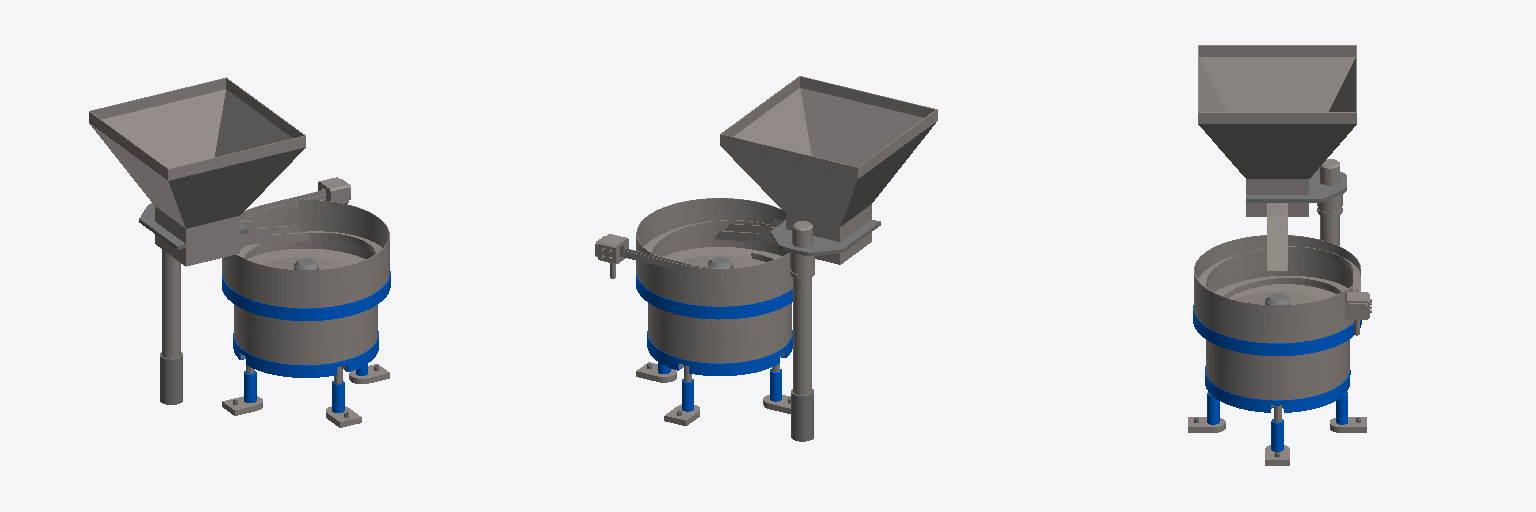
The model's file is Vibrating_Bowl_Screws.obj.
3 views of the same model, side by side, from view 1: azimuth 30°, elevation 25°; view 2: azimuth 150°, elevation 25°; view 3: azimuth 270°, elevation 25° (orthographic).
Visible parts, largest first — view 1: _[number redacted]_1 _[number redacted]_3 _[number redacted]_5 _[number redacted]_7 _[number redacted]_10 _01, _[number redacted]_6 _[number redacted]_9 _[number redacted]_13 _[number redacted]_15, _[number redacted] _[number redacted]_2 _[number redacted]_4 _[number redacted]_8 _[number redacted]_11; view 2: _[number redacted]_1 _[number redacted]_3 _[number redacted]_5 _[number redacted]_7 _[number redacted]_10 _01, _[number redacted]_6 _[number redacted]_9 _[number redacted]_13 _[number redacted]_15, _[number redacted] _[number redacted]_2 _[number redacted]_4 _[number redacted]_8 _[number redacted]_11; view 3: _[number redacted]_1 _[number redacted]_3 _[number redacted]_5 _[number redacted]_7 _[number redacted]_10 _01, _[number redacted]_6 _[number redacted]_9 _[number redacted]_13 _[number redacted]_15, _[number redacted] _[number redacted]_2 _[number redacted]_4 _[number redacted]_8 _[number redacted]_11.
Boxes of the visible parts, <box> form: _[number redacted]_1 _[number redacted]_3 _[number redacted]_5 _[number redacted]_7 _[number redacted]_10 _01: <box>89,77,389,427</box>; _[number redacted]_6 _[number redacted]_9 _[number redacted]_13 _[number redacted]_15: <box>222,271,390,412</box>; _[number redacted] _[number redacted]_2 _[number redacted]_4 _[number redacted]_8 _[number redacted]_11: <box>139,203,378,417</box>; _[number redacted]_1 _[number redacted]_3 _[number redacted]_5 _[number redacted]_7 _[number redacted]_10 _01: <box>595,76,937,425</box>; _[number redacted]_6 _[number redacted]_9 _[number redacted]_13 _[number redacted]_15: <box>636,273,792,411</box>; _[number redacted] _[number redacted]_2 _[number redacted]_4 _[number redacted]_8 _[number redacted]_11: <box>647,220,880,441</box>; _[number redacted]_1 _[number redacted]_3 _[number redacted]_5 _[number redacted]_7 _[number redacted]_10 _01: <box>1188,45,1371,465</box>; _[number redacted]_6 _[number redacted]_9 _[number redacted]_13 _[number redacted]_15: <box>1193,305,1361,451</box>; _[number redacted] _[number redacted]_2 _[number redacted]_4 _[number redacted]_8 _[number redacted]_11: <box>1194,167,1360,457</box>.
Size of the model in its own units: 710 by 780 by 439.